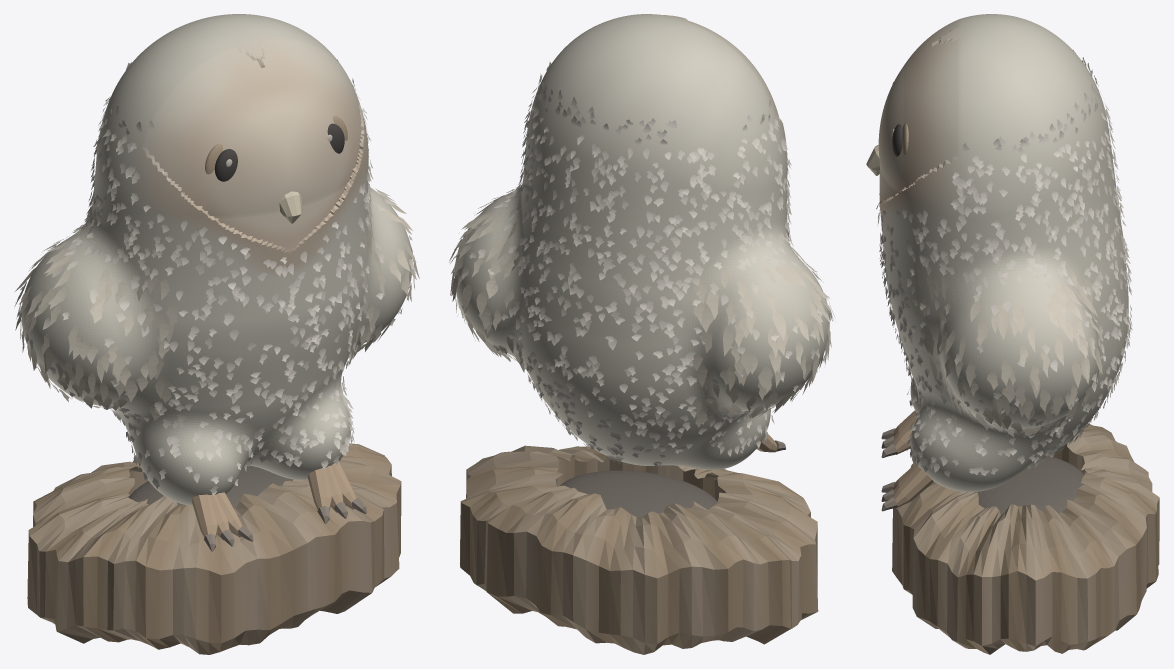
The model's file is run97_mild_NOT_APPROVED.glb.
3 renders of one model, left to right at view 1: azimuth 30°, elevation 25°; view 2: azimuth 150°, elevation 25°; view 3: azimuth 270°, elevation 25°, orthographic. The views are drawn at different scales.
Parts seen in each view (by area): view 1: continuous_juvenile_sculpt, irregular_senescent_hollow_lip, directional_body_1550_vellus_fibres, directional_wing_286_vellus_fibres, interior_hollow_shadow, toe_-1_-1, toe_1_-1; view 2: continuous_juvenile_sculpt, irregular_senescent_hollow_lip, directional_body_1550_vellus_fibres, directional_wing_286_vellus_fibres, interior_hollow_shadow; view 3: continuous_juvenile_sculpt, irregular_senescent_hollow_lip, directional_body_1550_vellus_fibres, directional_wing_286_vellus_fibres, interior_hollow_shadow, toe_1_1.
Part boxes in pixels (x1,y1,x2,y2): continuous_juvenile_sculpt: (21, 14, 412, 505); irregular_senescent_hollow_lip: (27, 443, 401, 654); directional_body_1550_vellus_fibres: (17, 59, 415, 495); directional_wing_286_vellus_fibres: (14, 188, 419, 420); interior_hollow_shadow: (129, 465, 293, 509); toe_-1_-1: (191, 494, 217, 539); toe_1_-1: (307, 468, 331, 511); continuous_juvenile_sculpt: (454, 14, 829, 469); irregular_senescent_hollow_lip: (460, 445, 818, 654); directional_body_1550_vellus_fibres: (450, 61, 830, 467); directional_wing_286_vellus_fibres: (449, 195, 834, 427); interior_hollow_shadow: (560, 470, 717, 516); continuous_juvenile_sculpt: (878, 14, 1128, 491); irregular_senescent_hollow_lip: (892, 423, 1159, 654); directional_body_1550_vellus_fibres: (876, 50, 1132, 476); directional_wing_286_vellus_fibres: (916, 264, 1104, 437); interior_hollow_shadow: (975, 456, 1084, 514); toe_1_1: (893, 466, 933, 507).
Bounding box in the file's own units: 2.25 × 3.37 × 1.57.
